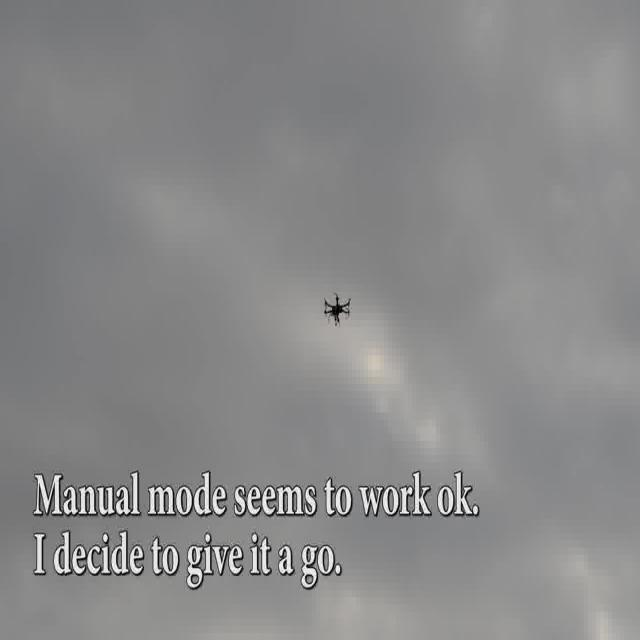Drone_FW: (323, 292, 351, 326)
